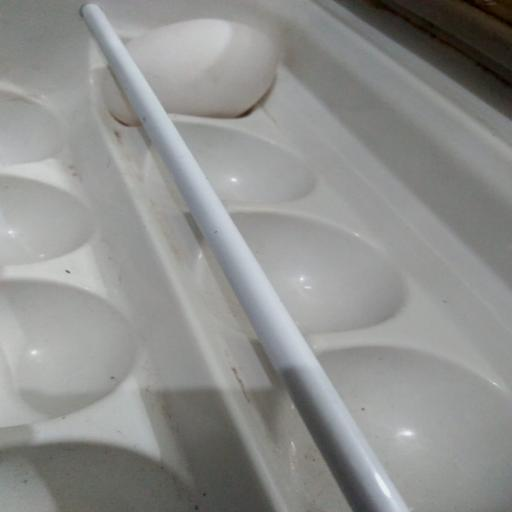telur: (99, 17, 277, 124)
